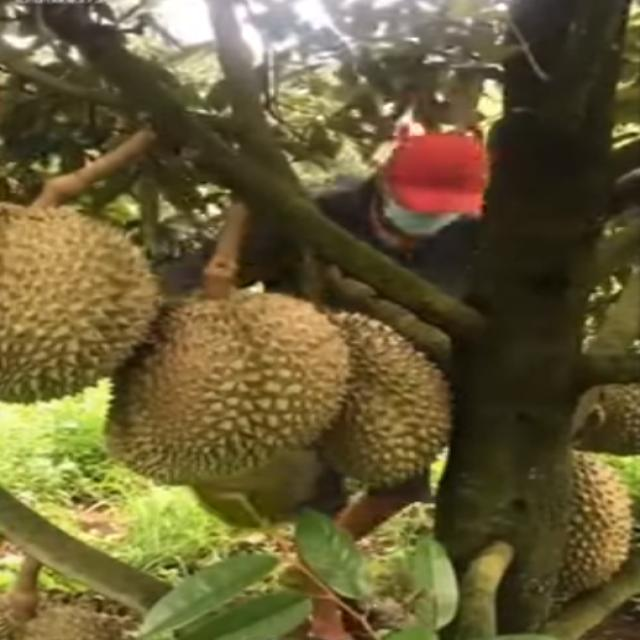mature: (98, 288, 350, 488), (0, 204, 170, 412), (295, 306, 453, 495)
